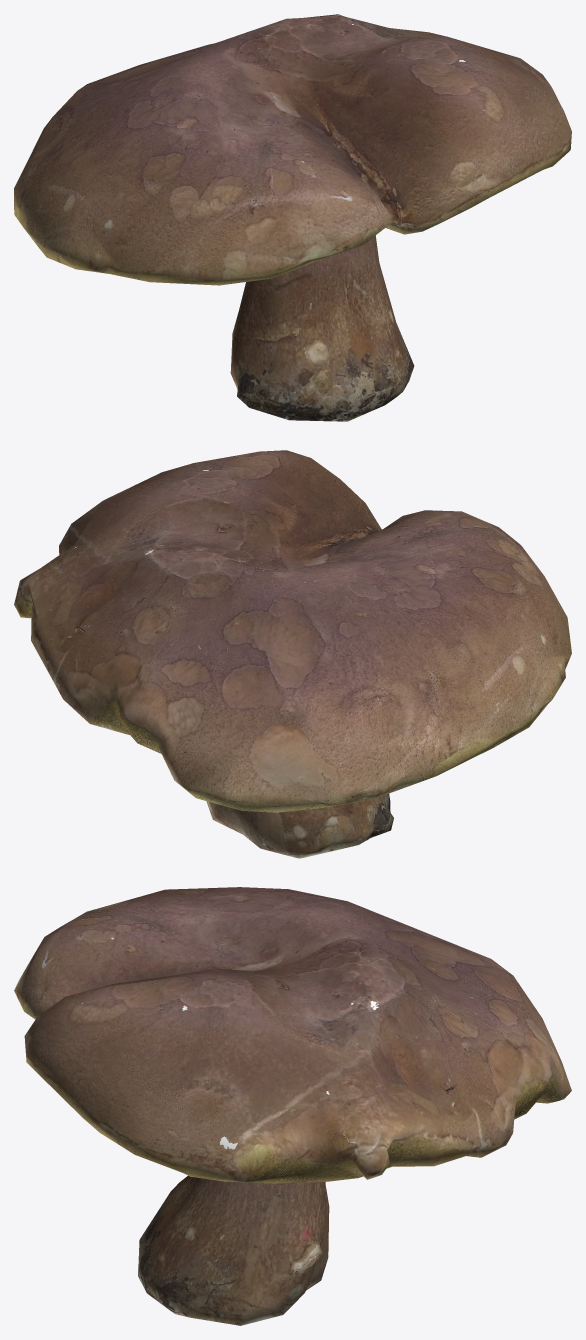
File: shroom-5.gltf
3 views of the same model, one above another, from view 1: azimuth 30°, elevation 25°; view 2: azimuth 150°, elevation 25°; view 3: azimuth 270°, elevation 25° (orthographic). The views are drawn at different scales.
Parts seen in each view (by area): view 1: mushroom_06; view 2: mushroom_06; view 3: mushroom_06.
Part boxes in pixels (box(x1,y1,x2,y2)): mushroom_06: box(14, 14, 571, 421); mushroom_06: box(14, 450, 571, 858); mushroom_06: box(14, 887, 571, 1325).
Size of the model in its own units: 84.67 by 53 by 76.32.
Materials: 1 (1 with a texture image).
